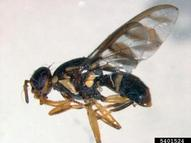Fruit fly: (19, 18, 137, 130)
